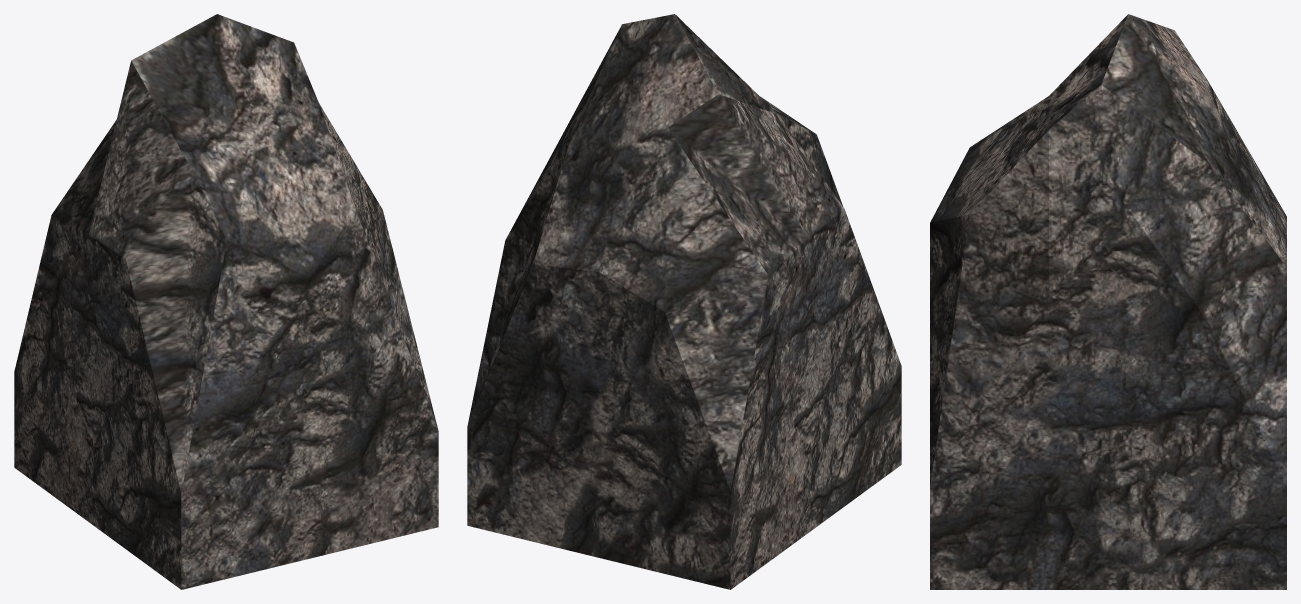
The model's file is Stone_2.fbx.
3 renders of one model, left to right at view 1: azimuth 30°, elevation 25°; view 2: azimuth 150°, elevation 25°; view 3: azimuth 270°, elevation 25°, orthographic. The views are drawn at different scales.
Visible parts, largest first — view 1: Stone_2; view 2: Stone_2; view 3: Stone_2.
Part boxes in pixels (x1,y1,x2,y2): Stone_2: (14,14,438,589); Stone_2: (467,14,901,589); Stone_2: (930,14,1286,589).
Bounding box in the file's own units: 1398 × 2478 × 1574.
